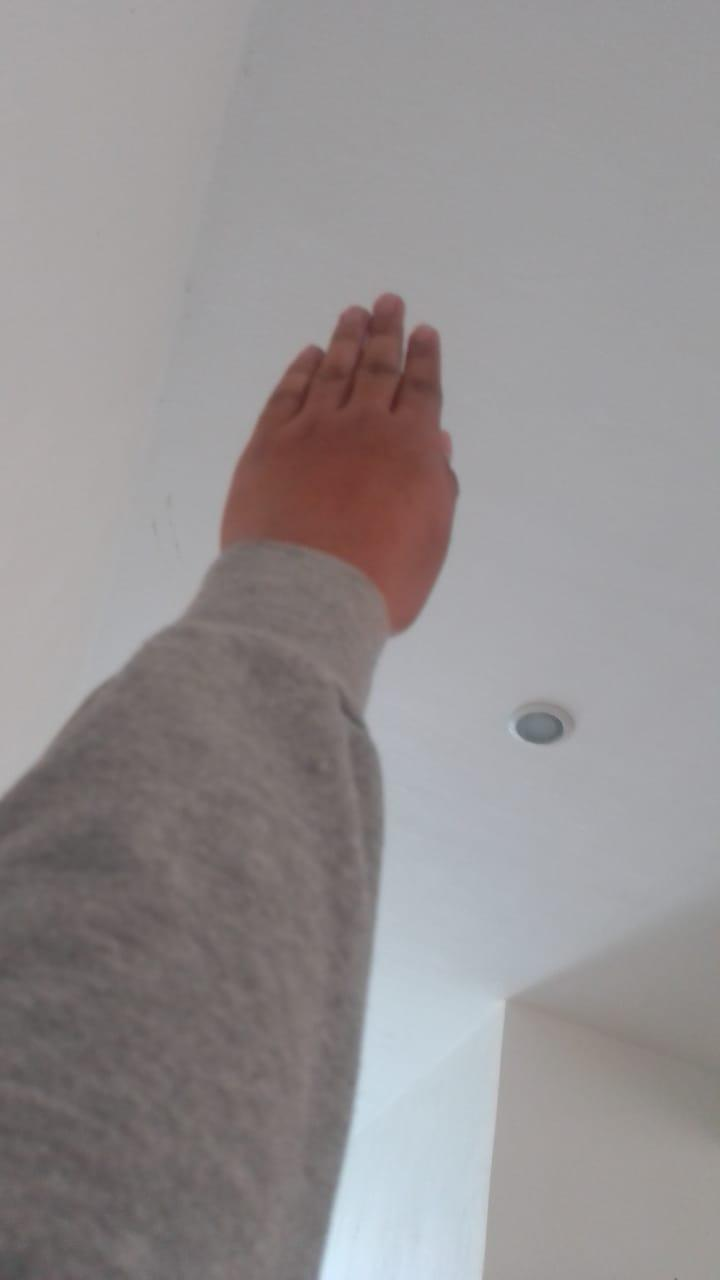Paper: (220, 263, 497, 650)
